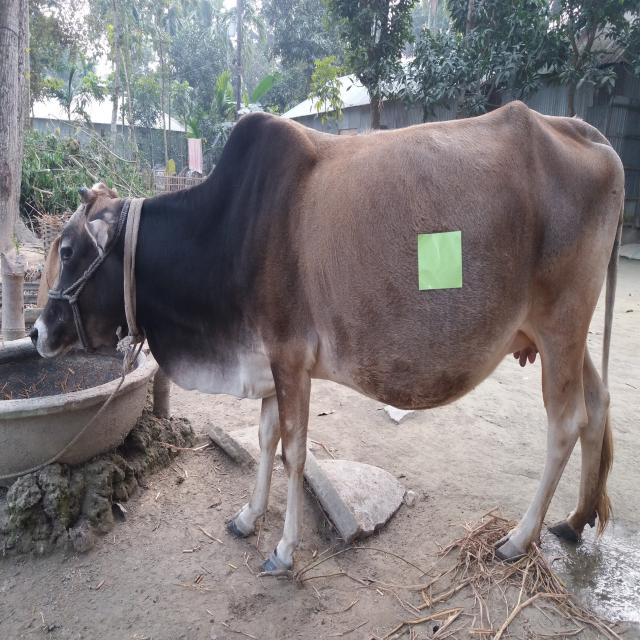badan_sapi: (236, 107, 621, 413)
sapi: (23, 90, 632, 582)
